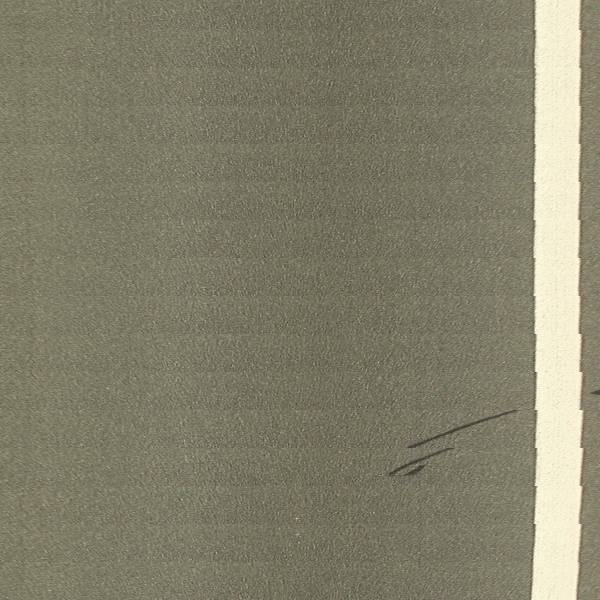road_damage: (390, 407, 522, 482)
